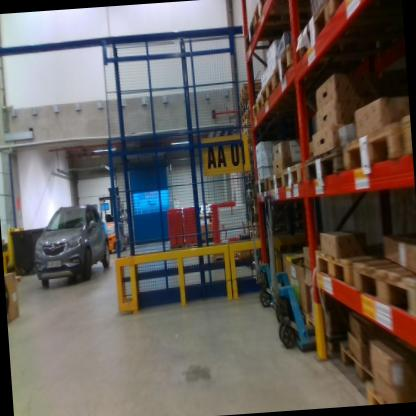forklift: (93, 182, 133, 259)
pallet: (351, 249, 416, 330), (330, 111, 404, 179), (316, 233, 377, 306), (337, 339, 391, 392), (292, 2, 337, 61), (242, 11, 301, 50), (302, 140, 348, 188), (270, 38, 297, 93), (360, 379, 409, 402), (327, 0, 373, 23), (256, 0, 299, 24), (281, 162, 308, 195), (265, 167, 284, 198), (246, 94, 268, 120), (258, 73, 274, 103), (234, 81, 262, 98), (239, 91, 266, 108), (209, 249, 234, 266), (238, 118, 256, 136), (241, 169, 258, 186), (256, 173, 267, 197), (245, 221, 265, 234), (247, 230, 267, 243), (185, 241, 203, 255), (167, 242, 185, 255), (238, 110, 252, 126), (240, 103, 252, 120), (243, 181, 257, 195), (233, 250, 245, 265), (235, 244, 244, 257), (251, 247, 262, 257)
pallet_truck: (261, 183, 327, 355), (237, 191, 291, 326)
small_load_carrier: (182, 231, 200, 246), (168, 233, 185, 248)
